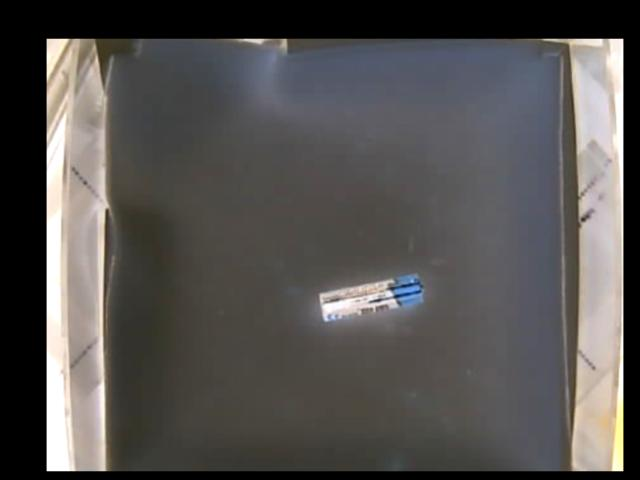Battery: (318, 274, 426, 324)
